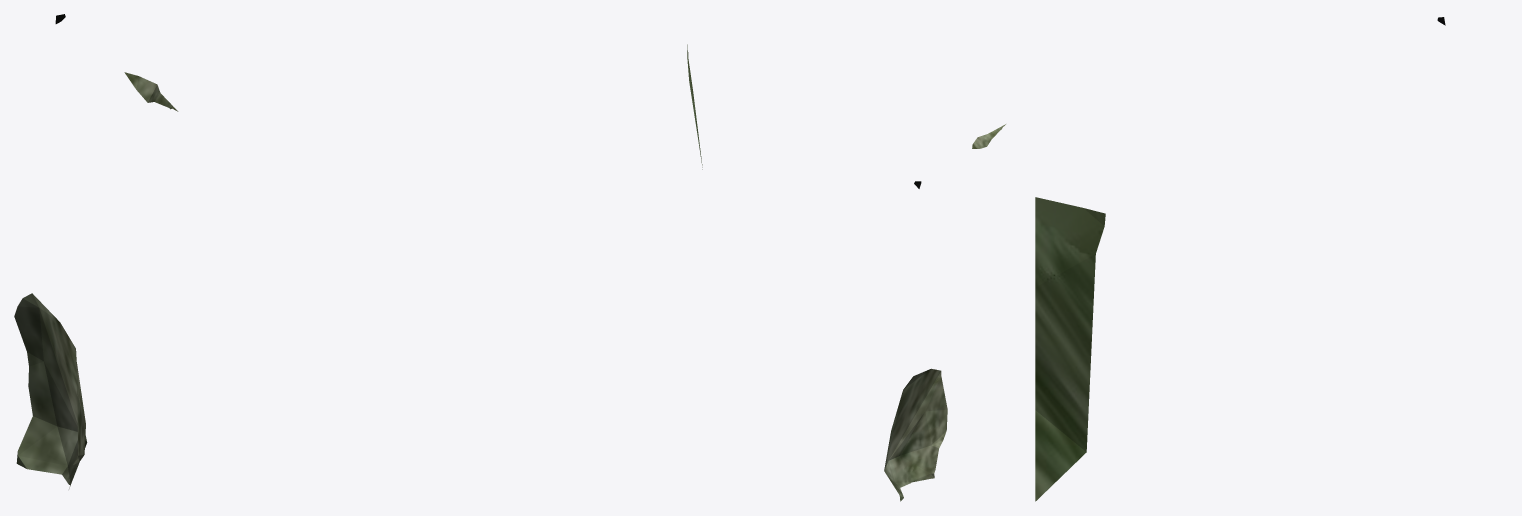
The picture shows the model from 3 angles, left to right: view 1: azimuth 30°, elevation 25°; view 2: azimuth 150°, elevation 25°; view 3: azimuth 270°, elevation 25°; orthographic projection. The views are drawn at different scales.
Size of the model in its own units: 2.95 by 2.95 by 2.95.
Materials: 1 (1 with a texture image).
